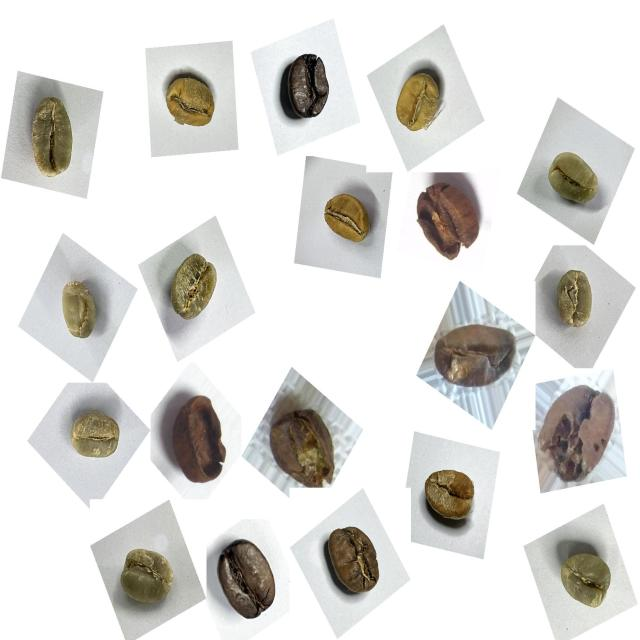bad: (526, 375, 621, 493), (160, 384, 240, 493), (262, 392, 344, 497), (428, 308, 520, 400), (404, 173, 486, 269)
dark: (207, 532, 284, 634), (270, 46, 341, 134)
green: (13, 87, 90, 192), (109, 534, 184, 619), (158, 245, 229, 334), (550, 536, 622, 622), (539, 142, 610, 219), (62, 400, 130, 473), (50, 270, 110, 352), (545, 260, 605, 338)
light: (158, 59, 228, 142), (388, 58, 454, 142), (315, 183, 380, 256)
medium: (317, 518, 392, 606), (416, 457, 486, 538)
